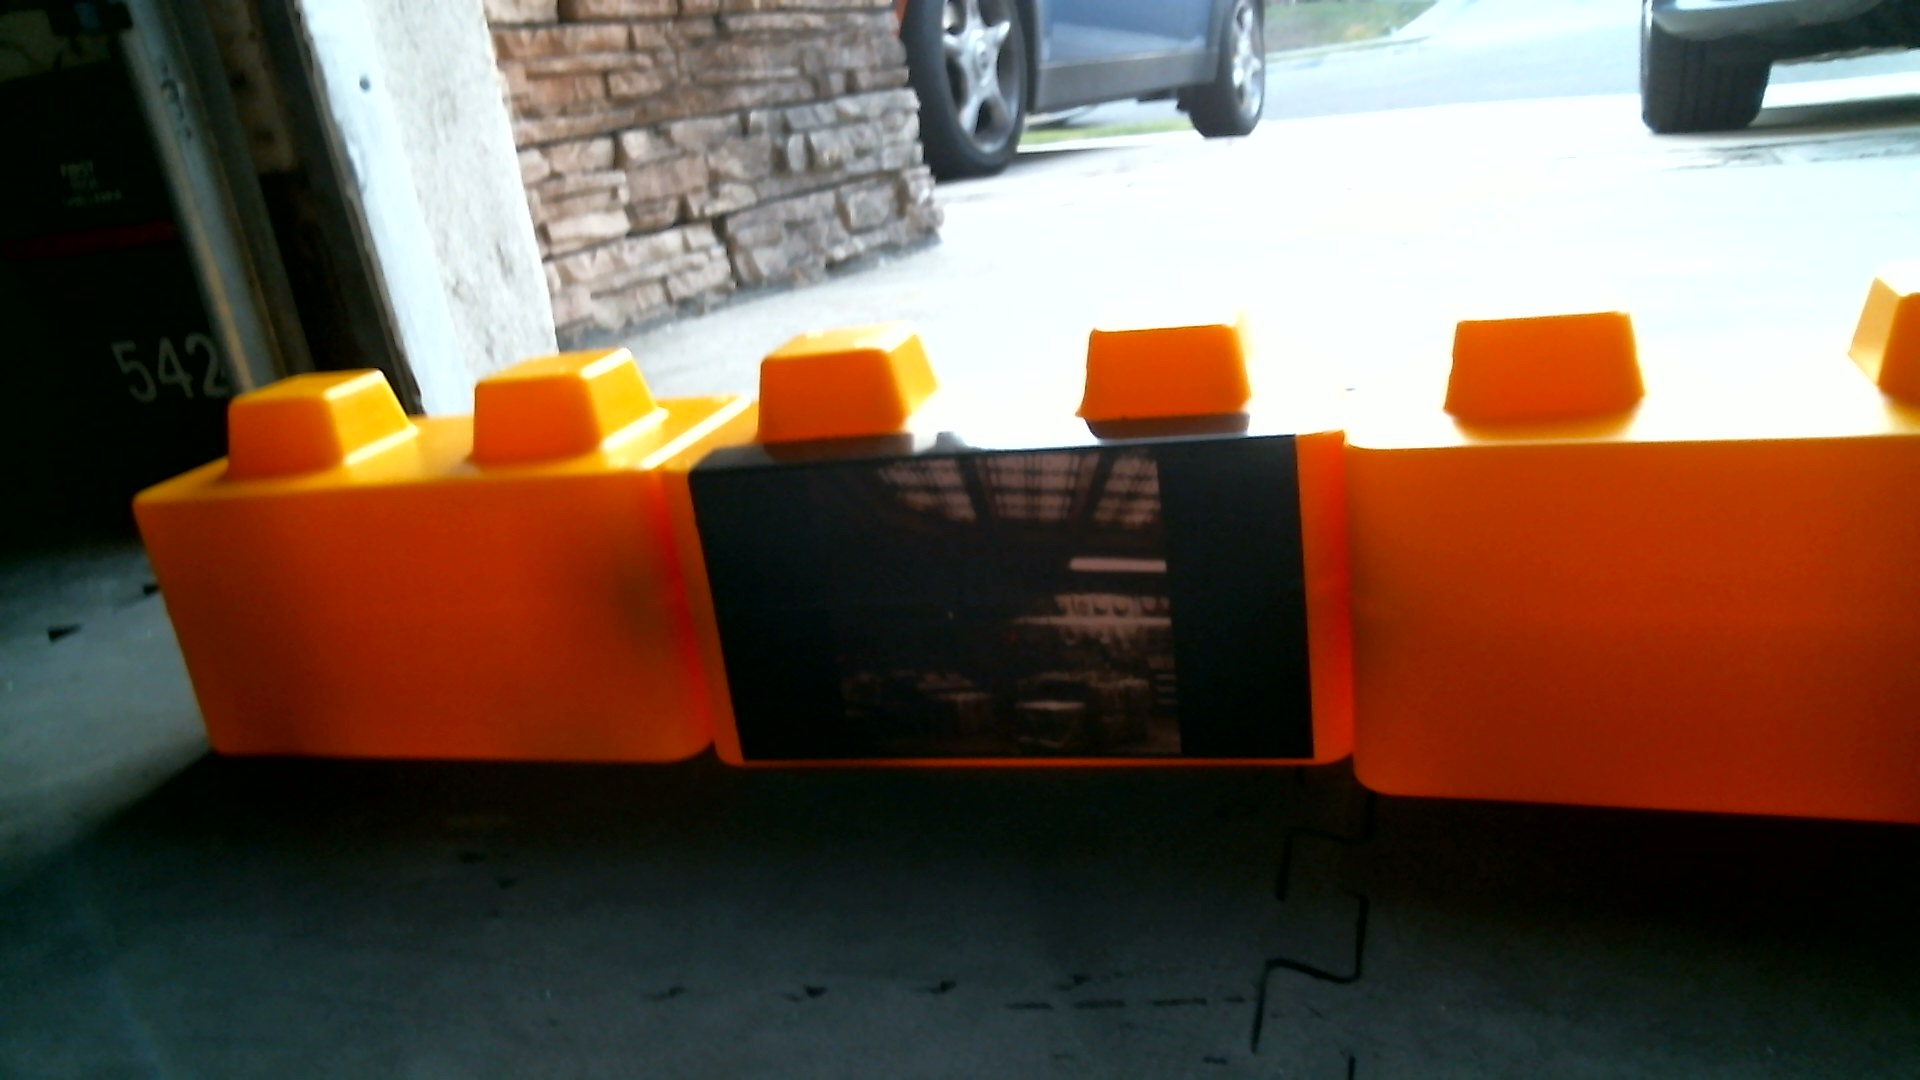center: (102, 319, 1919, 814)
